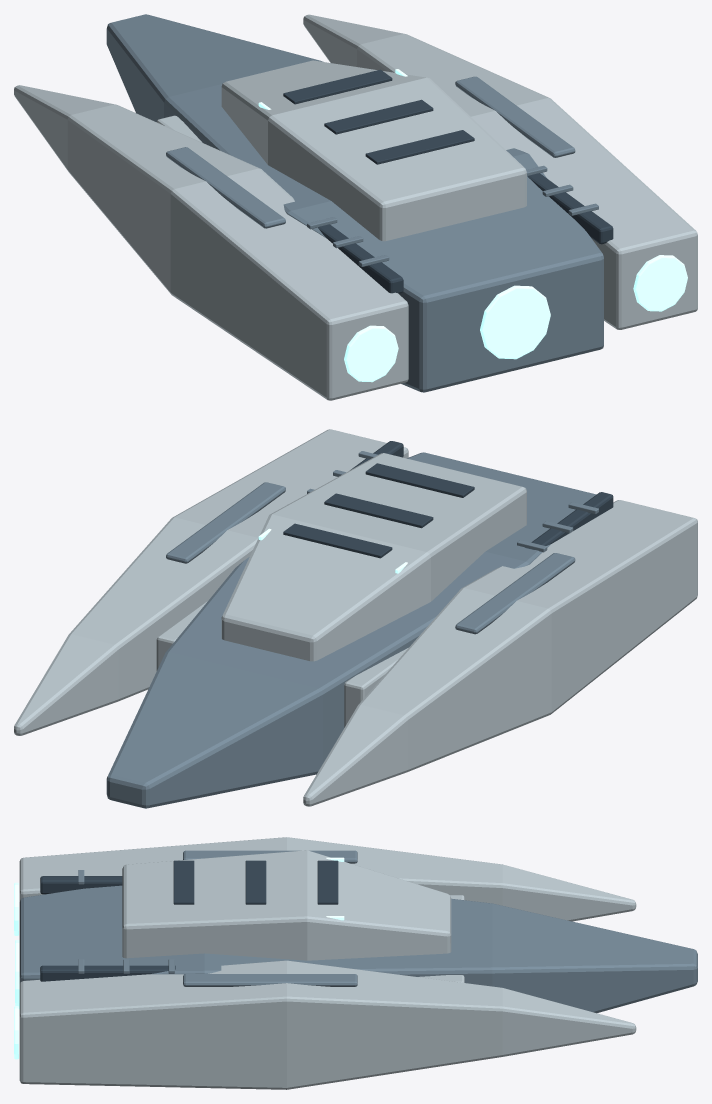
The model's file is Cruiser.fbx.
3 views of the same model, one above another, from view 1: azimuth 30°, elevation 25°; view 2: azimuth 150°, elevation 25°; view 3: azimuth 270°, elevation 25° (orthographic). The views are drawn at different scales.
Visible parts, largest first — view 1: VisualMesh; view 2: VisualMesh; view 3: VisualMesh.
Part boxes in pixels (x1,y1,x2,y2): VisualMesh: (14,14,697,400); VisualMesh: (14,429,697,808); VisualMesh: (14,837,697,1089).
Bounding box in the file's own units: 18.7 × 8.01 × 33.27.
